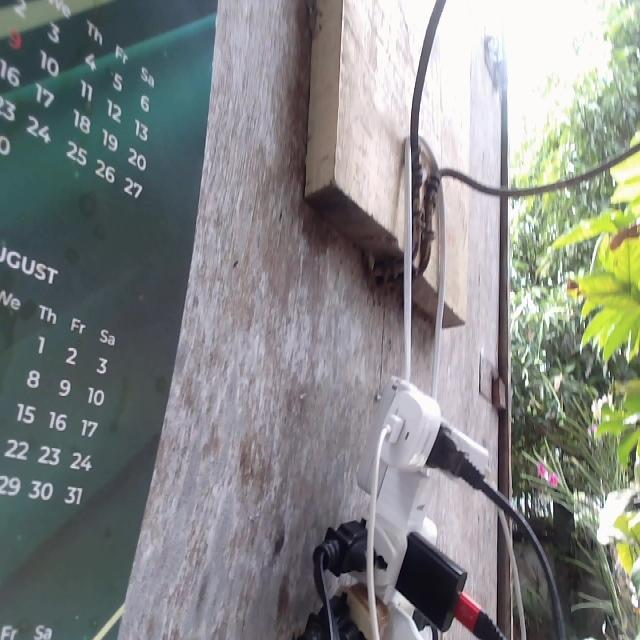-: (312, 372, 490, 639)
